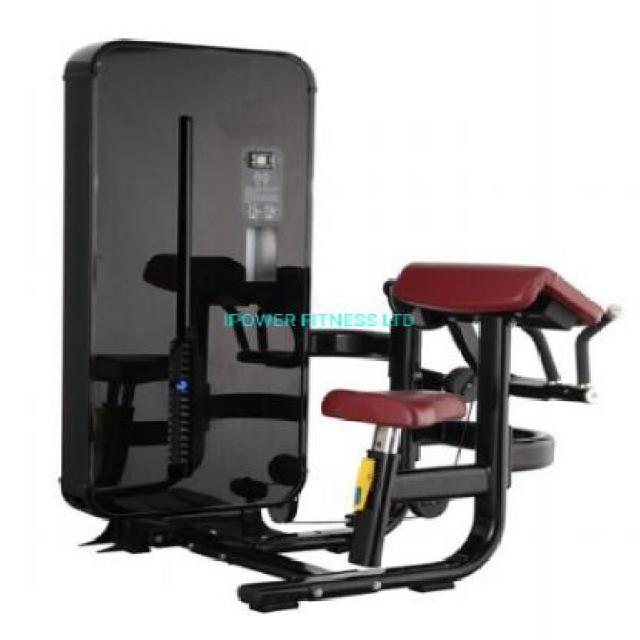arm curl machine: (64, 40, 622, 615)
